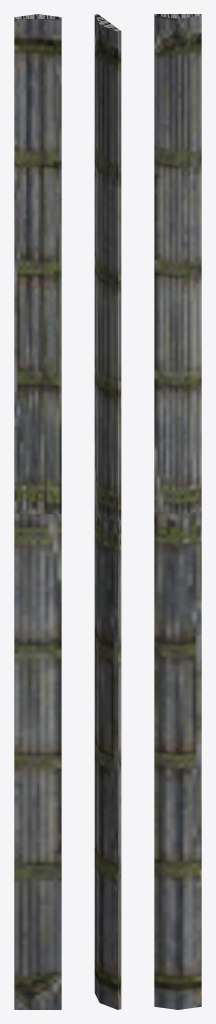
Rendered from Wire Long.fbx.
3 views of the same model, side by side, from view 1: azimuth 90°, elevation 25°; view 2: azimuth 210°, elevation 25°; view 3: azimuth 270°, elevation 25° (orthographic).
Visible parts, largest first — view 1: Cylinder006; view 2: Cylinder006; view 3: Cylinder006.
Boxes of the visible parts, box(x1,y1,x2,y2) form: Cylinder006: box(14, 14, 61, 1009); Cylinder006: box(94, 14, 121, 1009); Cylinder006: box(154, 14, 201, 1009).
Bounding box in the file's own units: 4.23 × 400 × 17.32.
